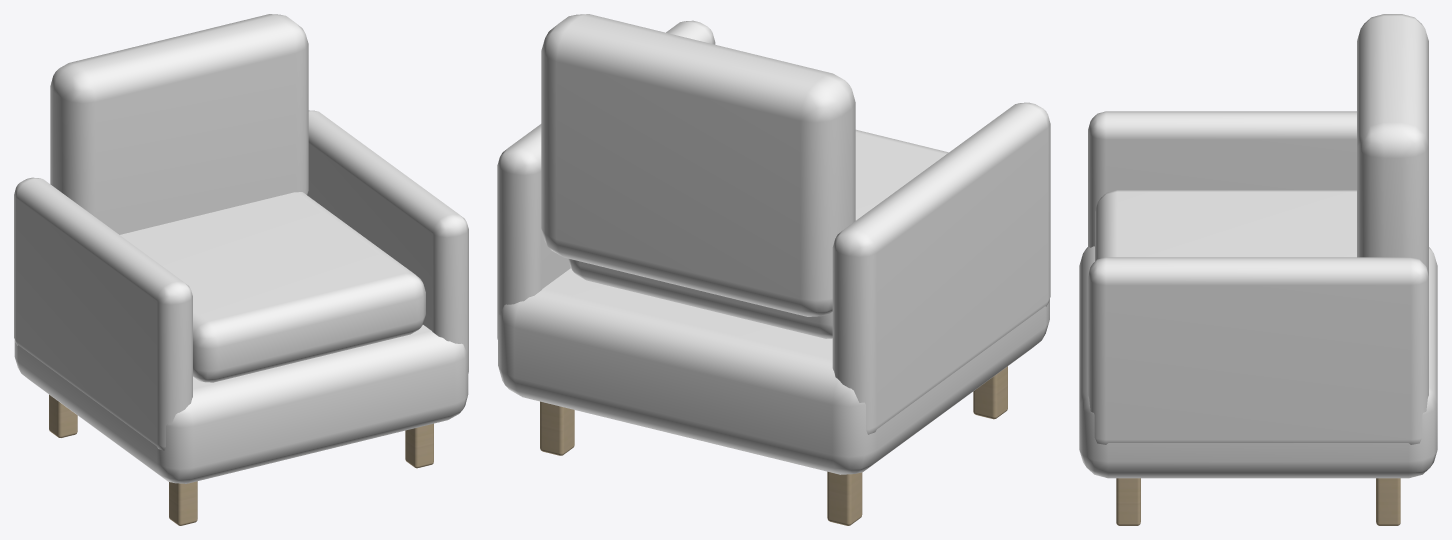
File: armchair-v1.glb
3 renders of one model, left to right at view 1: azimuth 30°, elevation 25°; view 2: azimuth 150°, elevation 25°; view 3: azimuth 270°, elevation 25°, orthographic. The views are drawn at different scales.
Visible parts, largest first — view 1: Timber foot; view 2: Timber foot; view 3: Timber foot.
Boxes of the visible parts, x1,y1,x2,y2 form: Timber foot: (14, 14, 468, 525); Timber foot: (497, 14, 1050, 525); Timber foot: (1079, 14, 1437, 525).
Bounding box in the file's own units: 0.865 × 0.96 × 0.8.
2 materials, 2 textured.
